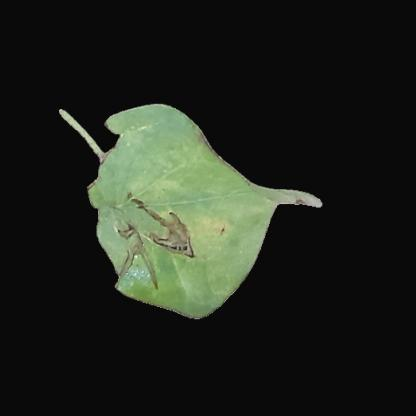curl_stage1: (134, 148, 184, 206), (194, 188, 236, 252), (163, 262, 202, 304), (232, 198, 271, 225)
